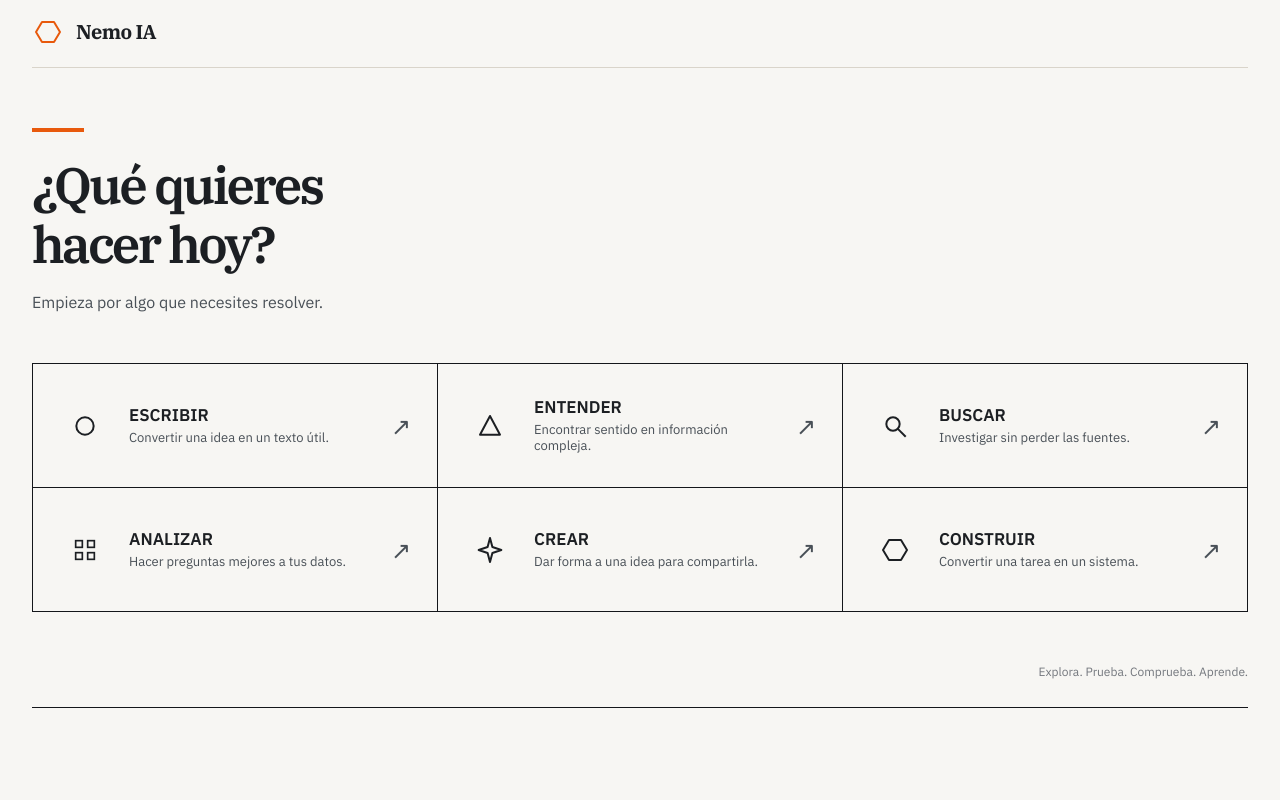
Test case: flujo principal de Nemo IA › permite volver al paso anterior y reiniciar la pizarra
Click the button "ANALIZAR": (85, 550) top-left (33, 488), bottom-right (438, 612)
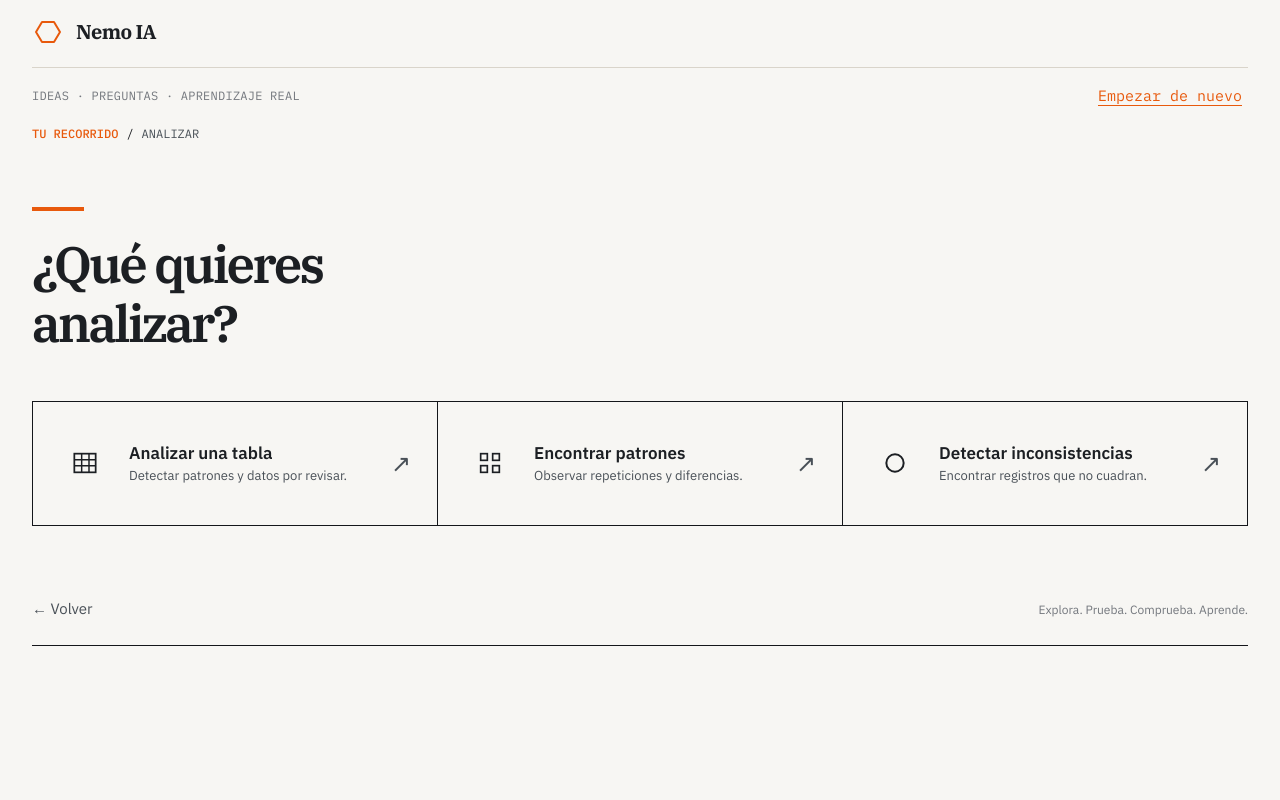
Expected: the heading "¿Qué quieres analizar?" is shown, top-left (32, 231), bottom-right (322, 356)
Click the button "← Volver": (62, 609) top-left (32, 585), bottom-right (93, 633)
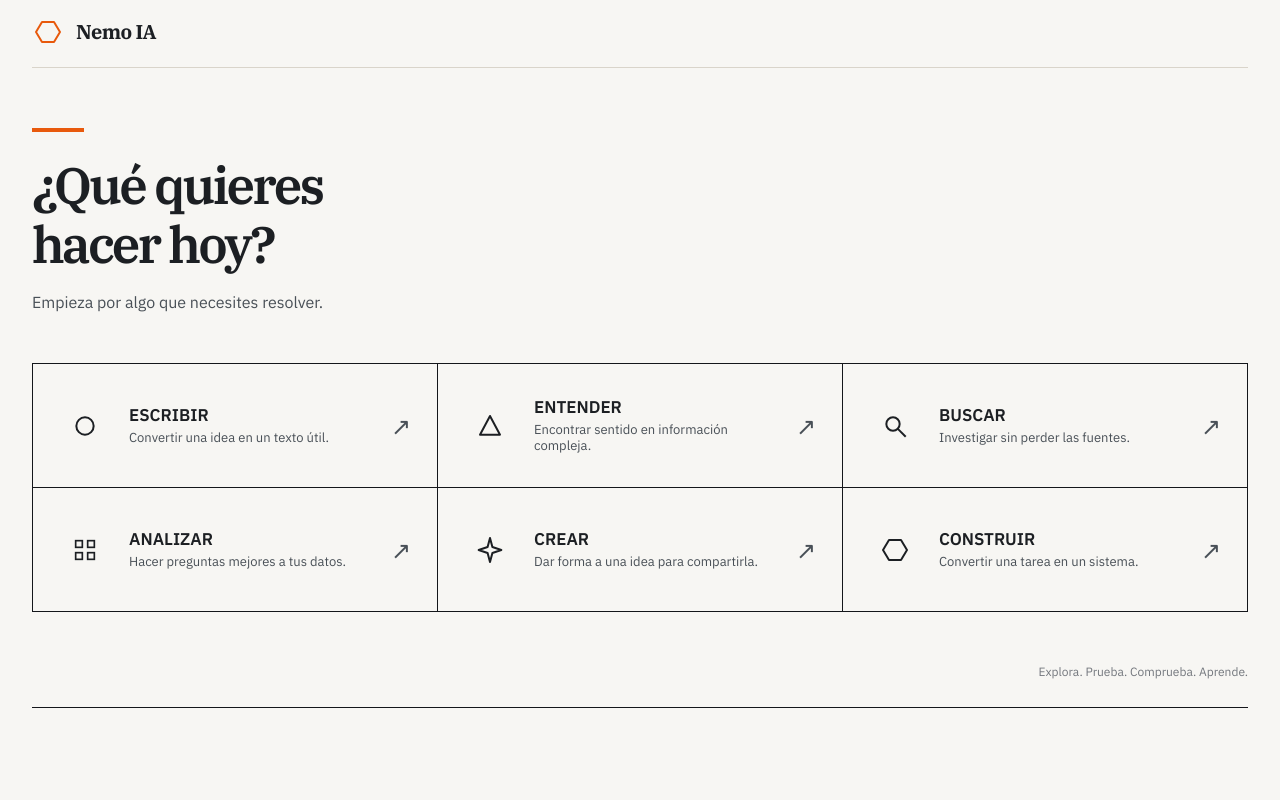
Expected: the heading "¿Qué quieres hacer hoy?" is shown, top-left (32, 156), bottom-right (339, 274)
Click the button "CONSTRUIR Convertir una tarea en un sistema. ↗": (895, 550) top-left (843, 488), bottom-right (1248, 612)
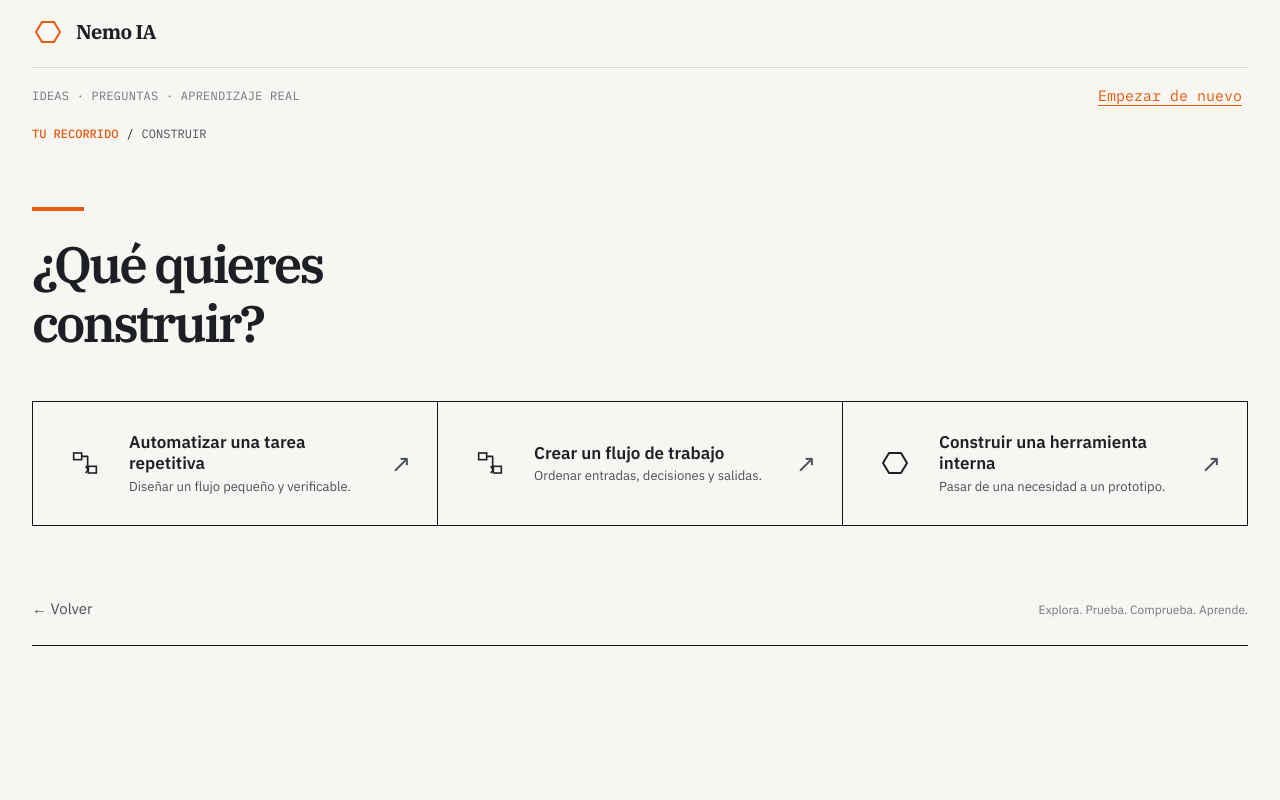
Click the button "Empezar de nuevo": (1170, 96) top-left (1092, 83), bottom-right (1248, 109)
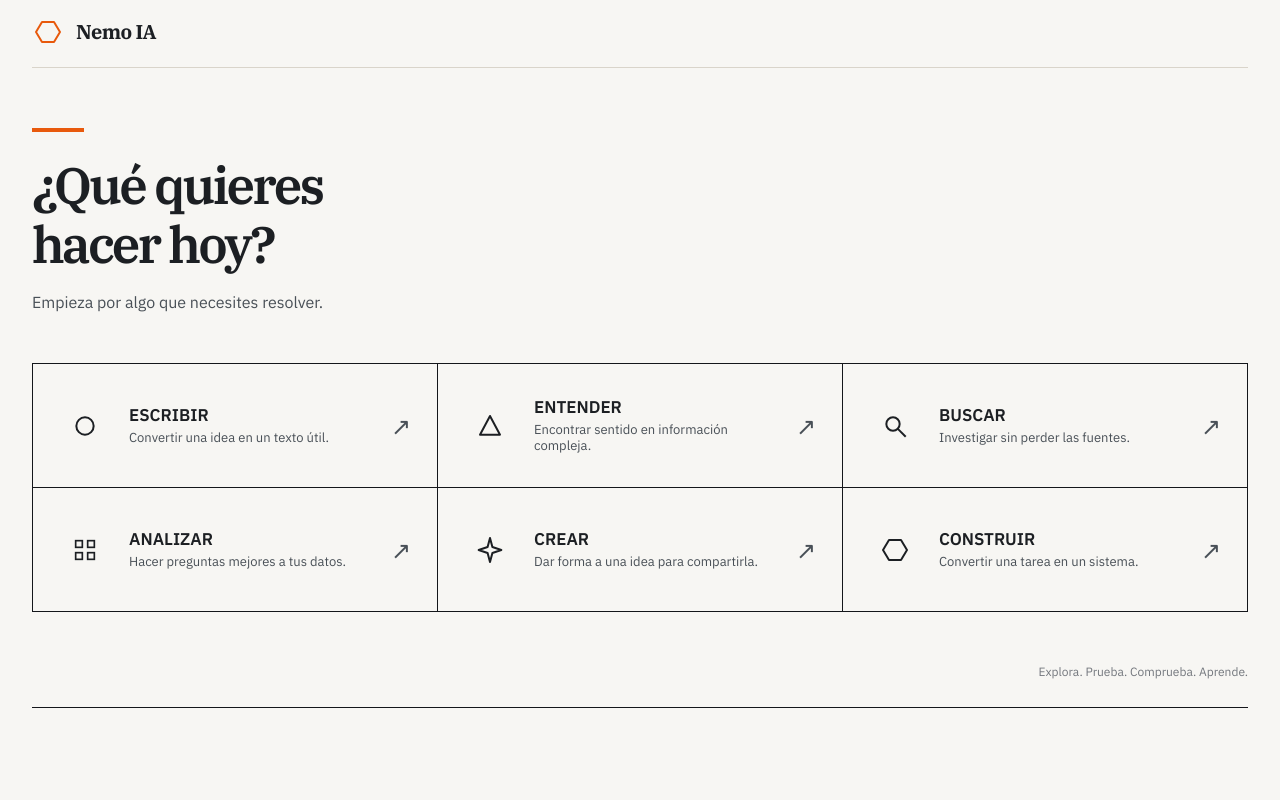
Expected: the heading "¿Qué quieres hacer hoy?" is shown, top-left (32, 156), bottom-right (339, 274)
